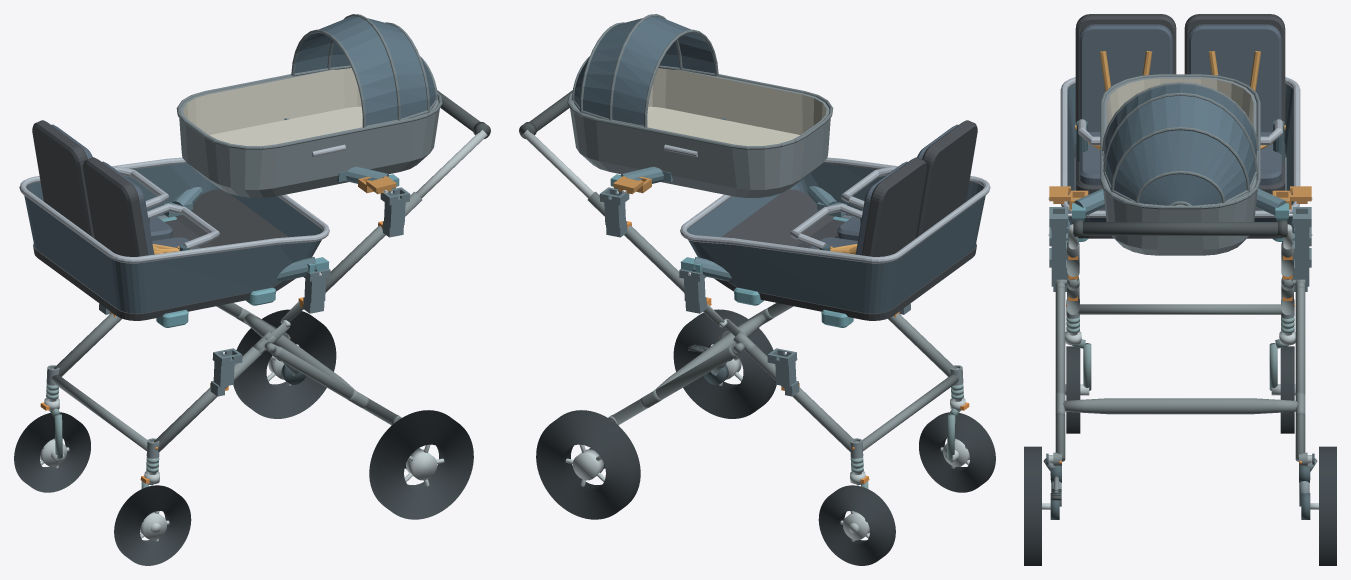
Rendered from D31_w650_state1_wheel_M.glb.
3 renders of one model, left to right at view 1: azimuth 30°, elevation 25°; view 2: azimuth 150°, elevation 25°; view 3: azimuth 270°, elevation 25°, orthographic. The views are drawn at different scales.
Parts seen in each view (by area): view 1: D31_Lower, D31_Upper, RL_tire.008, RR_tire.008, FL_tire.008, FR_tire.008, V46_rear_leg_-1.009, main_lower_-1.009, D31_Lower_Mount_M, front_fixed_round_tube.008, main_upper_-1.009, Universal_Cabin_Receiver_H_-1 (+8 smaller); view 2: D31_Lower, D31_Upper, RR_tire.008, RL_tire.008, FR_tire.008, FL_tire.008, V46_rear_leg_1.009, main_lower_1.009, D31_Lower_Mount_M, front_fixed_round_tube.008, main_upper_1.009, Universal_Cabin_Receiver_H_1 (+8 smaller); view 3: D31_Upper, D31_Lower, V46_rearbar.009, round_handle.008, front_fixed_round_tube.008, RL_tire.008, RR_tire.008, V46_rear_leg_1.009, V46_rear_leg_-1.009, D31_Upper_Mount_H, FL_tire.008, FR_tire.008 (+8 smaller).
Part boxes in pixels (left/top/right/bottom): D31_Lower: left=19, top=120, right=329, bottom=327; D31_Upper: left=176, top=14, right=442, bottom=197; RL_tire.008: left=369, top=410, right=473, bottom=519; RR_tire.008: left=233, top=309, right=336, bottom=418; FL_tire.008: left=114, top=485, right=191, bottom=565; FR_tire.008: left=14, top=412, right=90, bottom=492; V46_rear_leg_-1.009: left=273, top=346, right=397, bottom=425; main_lower_-1.009: left=154, top=346, right=264, bottom=452; D31_Lower_Mount_M: left=163, top=187, right=329, bottom=281; front_fixed_round_tube.008: left=51, top=374, right=147, bottom=450; main_upper_-1.009: left=325, top=191, right=422, bottom=292; Universal_Cabin_Receiver_H_-1: left=380, top=187, right=410, bottom=237; D31_Lower: left=680, top=120, right=990, bottom=327; D31_Upper: left=567, top=14, right=833, bottom=197; RR_tire.008: left=536, top=410, right=640, bottom=519; RL_tire.008: left=673, top=309, right=776, bottom=418; FR_tire.008: left=818, top=485, right=895, bottom=565; FL_tire.008: left=919, top=412, right=995, bottom=492; V46_rear_leg_1.009: left=612, top=346, right=736, bottom=425; main_lower_1.009: left=745, top=346, right=855, bottom=452; D31_Lower_Mount_M: left=680, top=186, right=846, bottom=280; front_fixed_round_tube.008: left=862, top=374, right=958, bottom=450; main_upper_1.009: left=587, top=191, right=684, bottom=292; Universal_Cabin_Receiver_H_1: left=599, top=187, right=629, bottom=237; D31_Upper: left=1100, top=74, right=1260, bottom=255; D31_Lower: left=1060, top=14, right=1300, bottom=241; V46_rearbar.009: left=1063, top=398, right=1297, bottom=414; round_handle.008: left=1073, top=222, right=1287, bottom=235; front_fixed_round_tube.008: left=1078, top=304, right=1282, bottom=314; RL_tire.008: left=1024, top=446, right=1041, bottom=565; RR_tire.008: left=1319, top=446, right=1336, bottom=565; V46_rear_leg_1.009: left=1295, top=286, right=1305, bottom=461; V46_rear_leg_-1.009: left=1055, top=286, right=1065, bottom=461; D31_Upper_Mount_H: left=1068, top=188, right=1292, bottom=221; FL_tire.008: left=1066, top=346, right=1080, bottom=433; FR_tire.008: left=1280, top=346, right=1294, bottom=433.
Size of the model in its own units: 1.17 by 1.32 by 0.7871.
